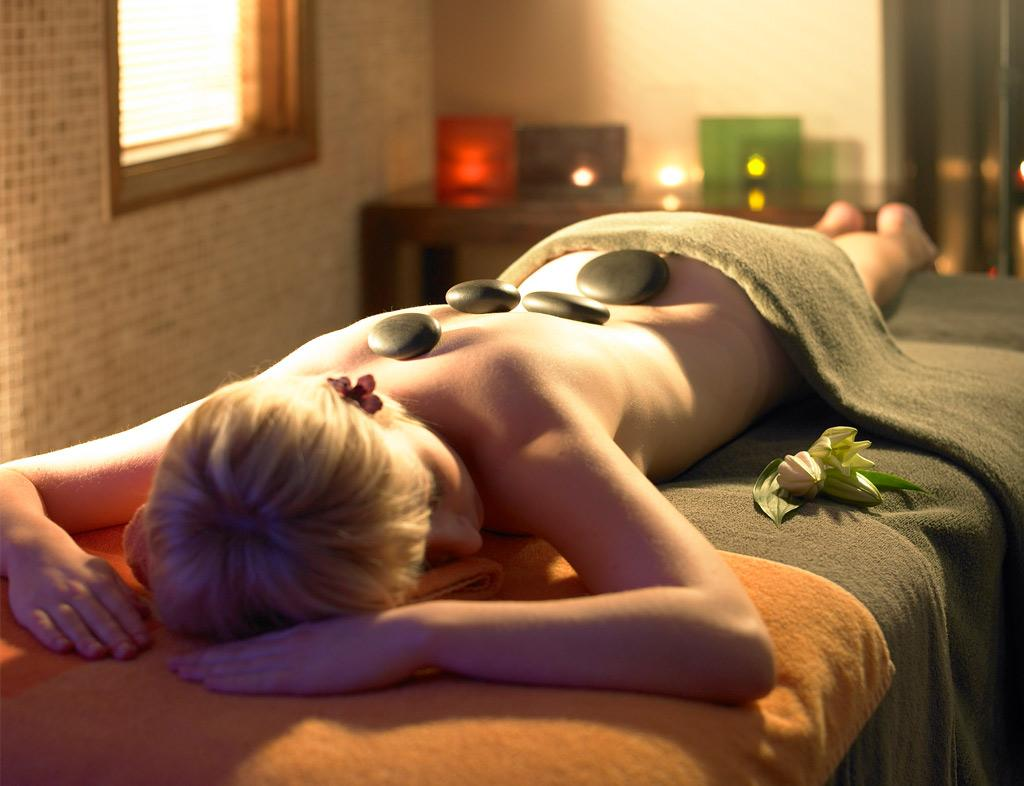face: (276, 426, 492, 586)
